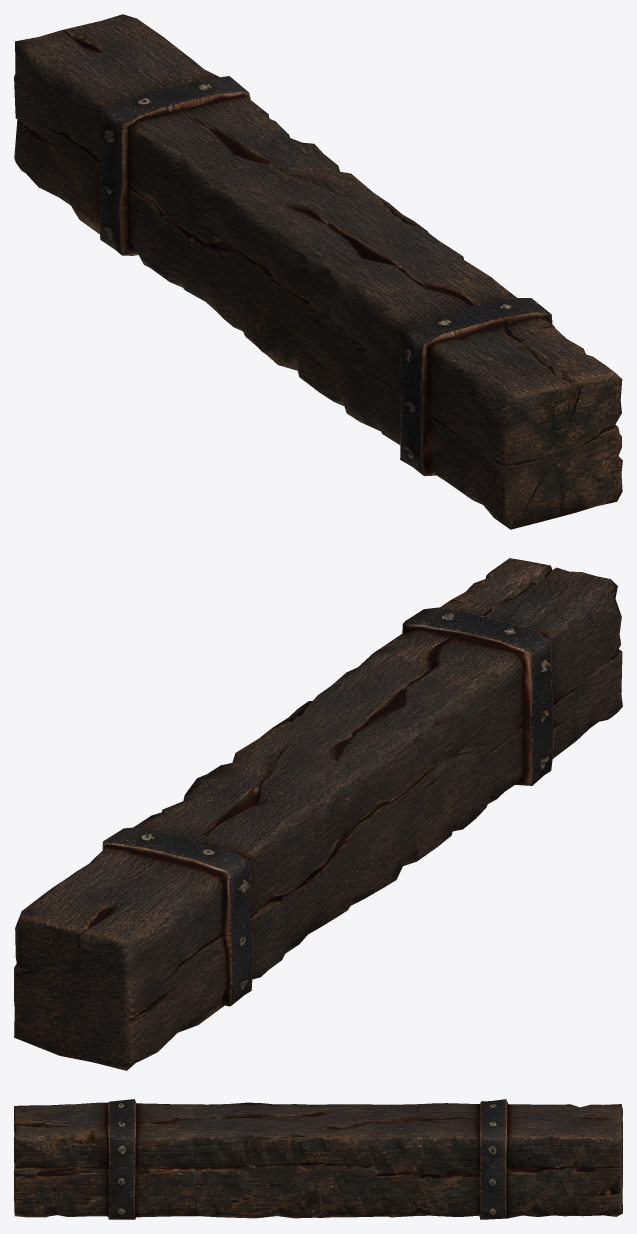
The model's file is raw_beam.glb.
3 views of the same model, one above another, from view 1: azimuth 30°, elevation 25°; view 2: azimuth 150°, elevation 25°; view 3: azimuth 270°, elevation 25° (orthographic). The views are drawn at different scales.
Parts seen in each view (by area): view 1: tripo_node_fb5b8793-09c8-41fd-892c-59d8b0f11fa3; view 2: tripo_node_fb5b8793-09c8-41fd-892c-59d8b0f11fa3; view 3: tripo_node_fb5b8793-09c8-41fd-892c-59d8b0f11fa3.
Boxes of the visible parts, x1,y1,x2,y2 form: tripo_node_fb5b8793-09c8-41fd-892c-59d8b0f11fa3: (14,14,622,529); tripo_node_fb5b8793-09c8-41fd-892c-59d8b0f11fa3: (14,558,622,1070); tripo_node_fb5b8793-09c8-41fd-892c-59d8b0f11fa3: (14,1099,622,1219).
Size of the model in its own units: 0.1702 by 0.1718 by 1.
Materials: 1 (1 with a texture image).
